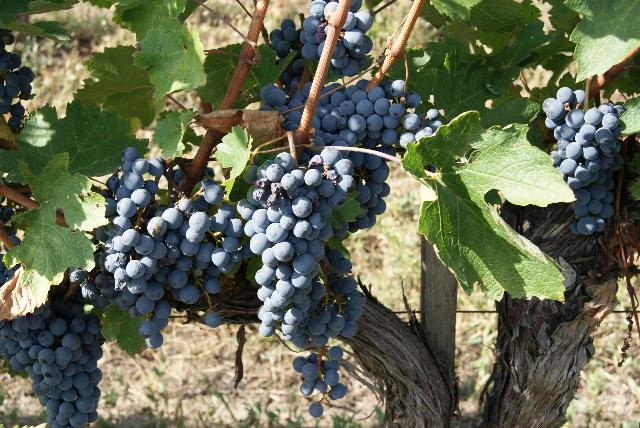grapes: (70, 148, 242, 349), (240, 154, 356, 340), (0, 296, 105, 428), (542, 86, 626, 235), (291, 250, 366, 400), (354, 80, 421, 156), (356, 154, 390, 215)
